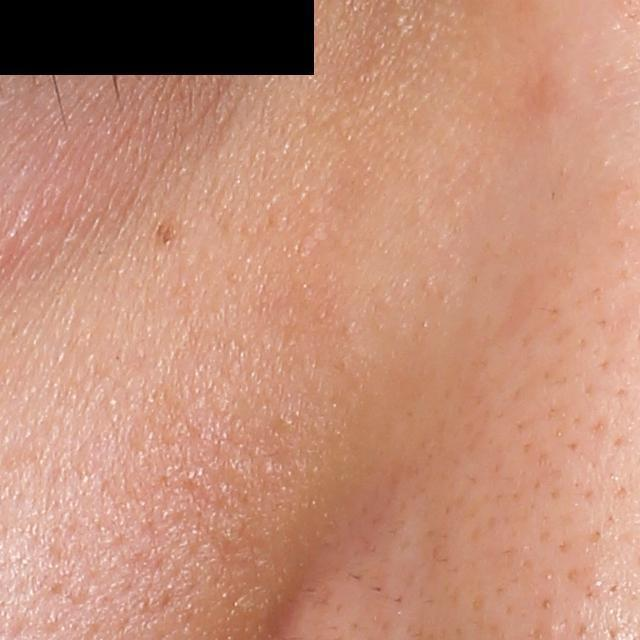nevus: (155, 219, 176, 247)
